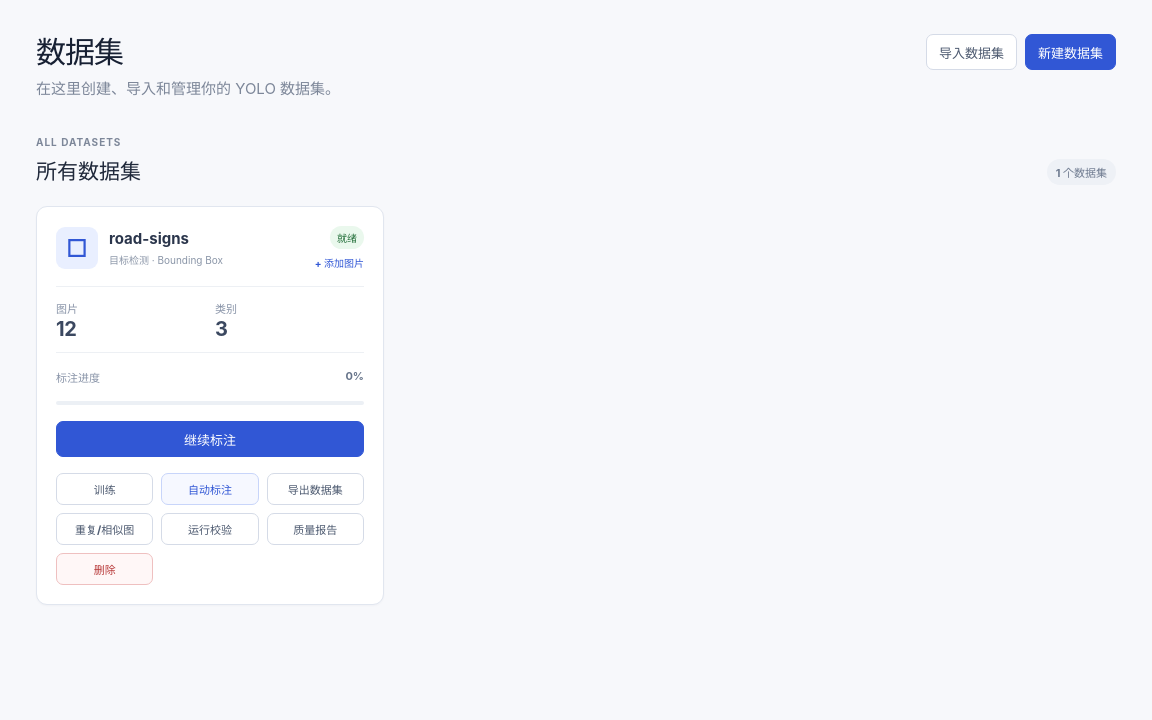
Test: DatasetHome delete flow › requires confirmation before deleting a dataset
Click the button "删除": [105, 569] box [56, 553, 153, 585]
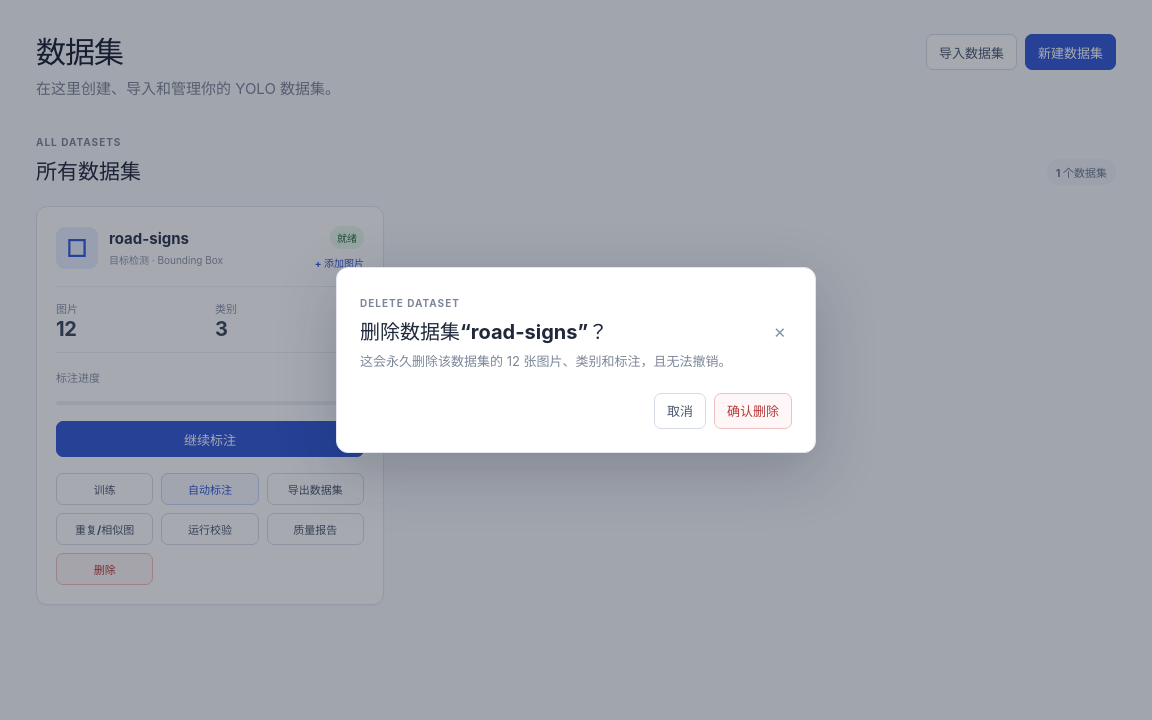
Check: the dialog shows "road-signs", box [471, 320, 577, 344]
Check: the dialog shows "12 张图片", box [336, 267, 816, 453]
Click the button "确认删除": [753, 411] box [714, 393, 792, 429]
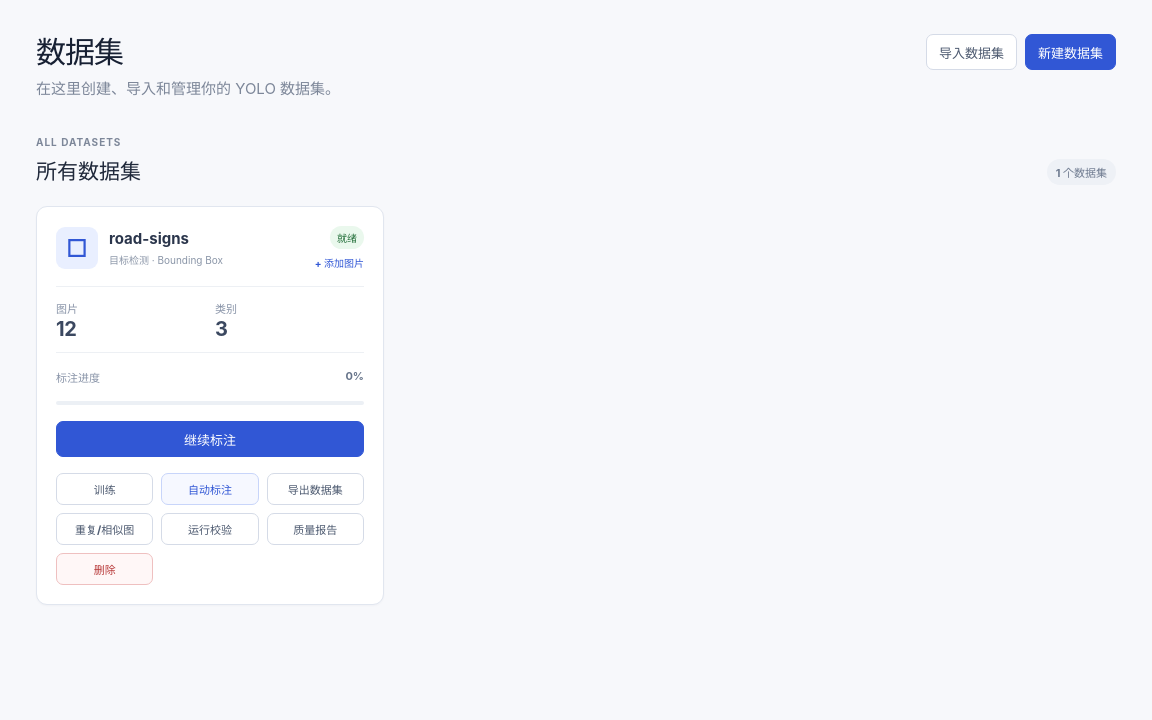
Check: the dialog is gone
